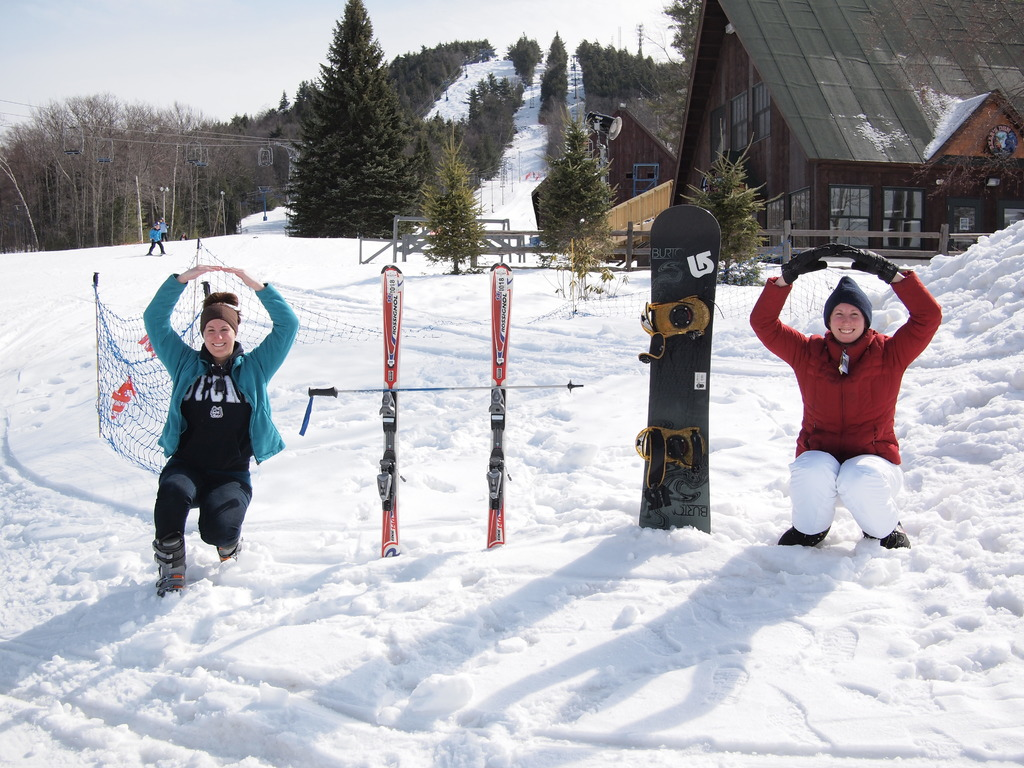Footwear: (861, 521, 909, 552), (774, 526, 831, 546)
